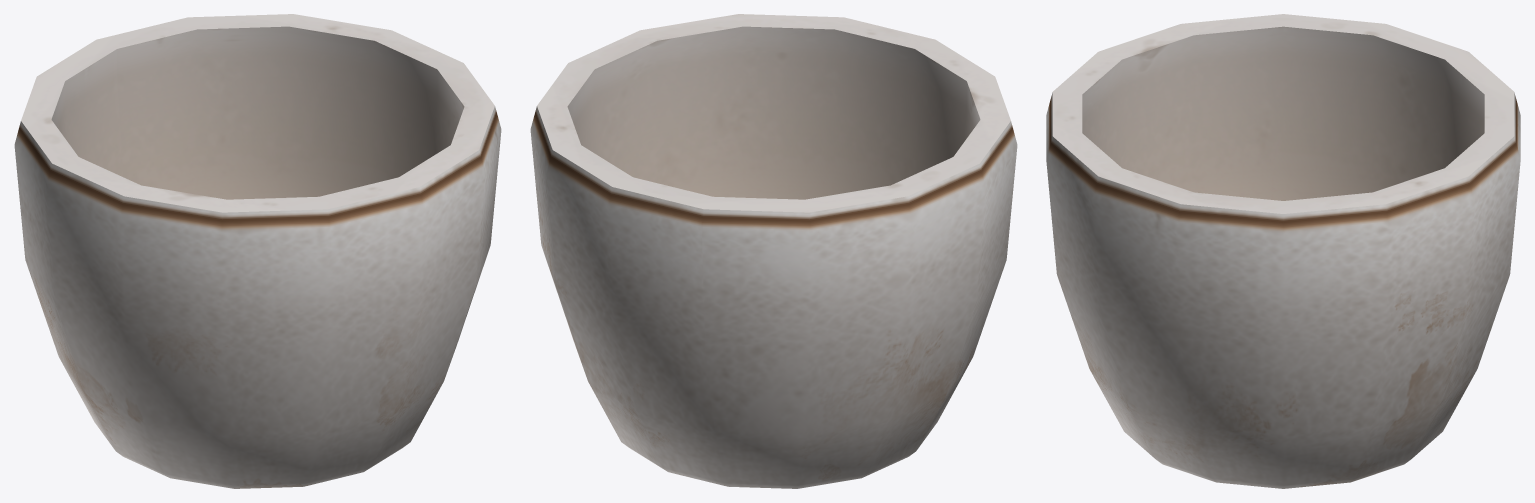
File: pot_simple.fbx
The picture shows the model from 3 angles, left to right: view 1: azimuth 30°, elevation 25°; view 2: azimuth 150°, elevation 25°; view 3: azimuth 270°, elevation 25°; orthographic projection.
Parts seen in each view (by area): view 1: pot_simple; view 2: pot_simple; view 3: pot_simple.
Boxes of the visible parts, x1,y1,x2,y2 form: pot_simple: (14, 14, 501, 488); pot_simple: (530, 14, 1017, 488); pot_simple: (1046, 14, 1520, 488).
Size of the model in its own units: 1.11 by 0.7795 by 1.08.
